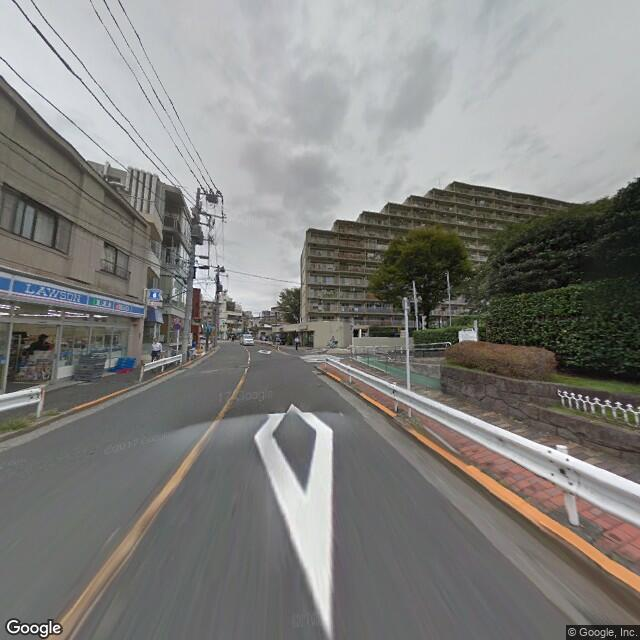lawson: (1, 271, 146, 320), (142, 285, 166, 307)
